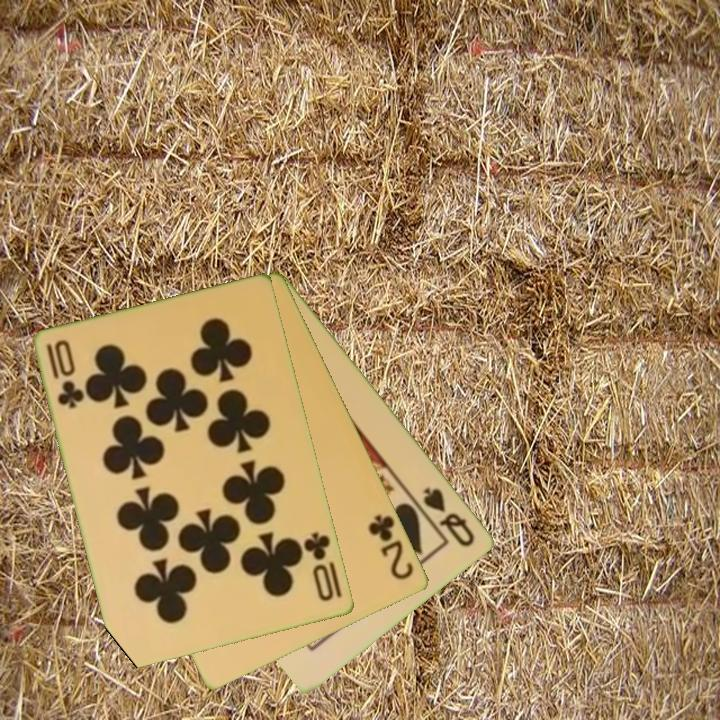10c: (43, 336, 87, 412), (300, 529, 337, 605)
2c: (365, 511, 417, 583)
Qs: (419, 483, 479, 550)
